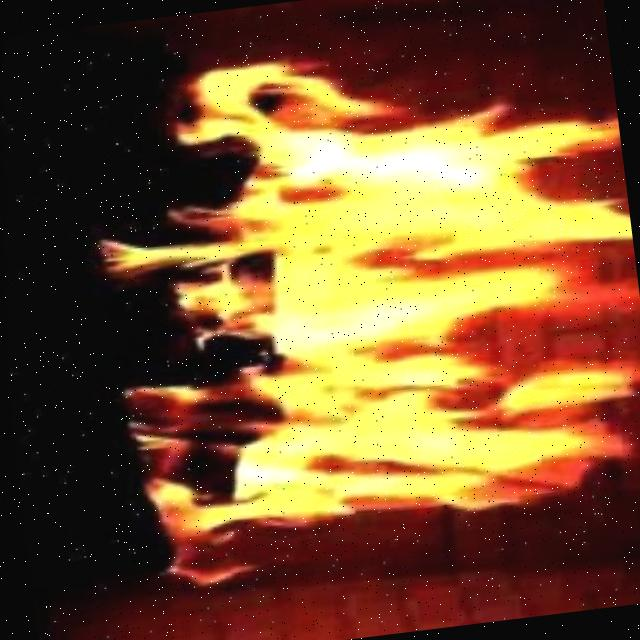fire: (109, 23, 640, 548)
